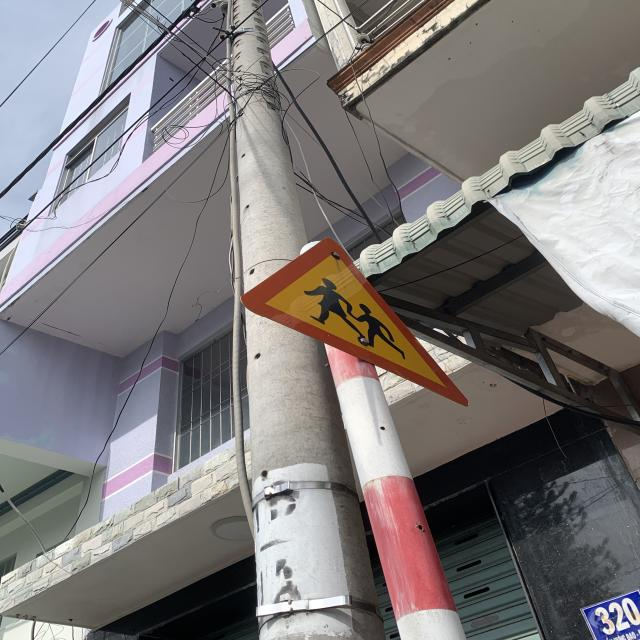Vong_Xuyen: (241, 235, 469, 407)
